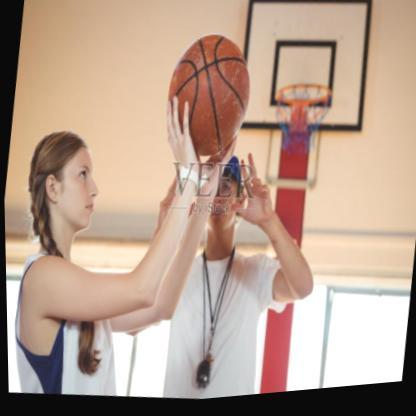basketball: (159, 31, 257, 166)
